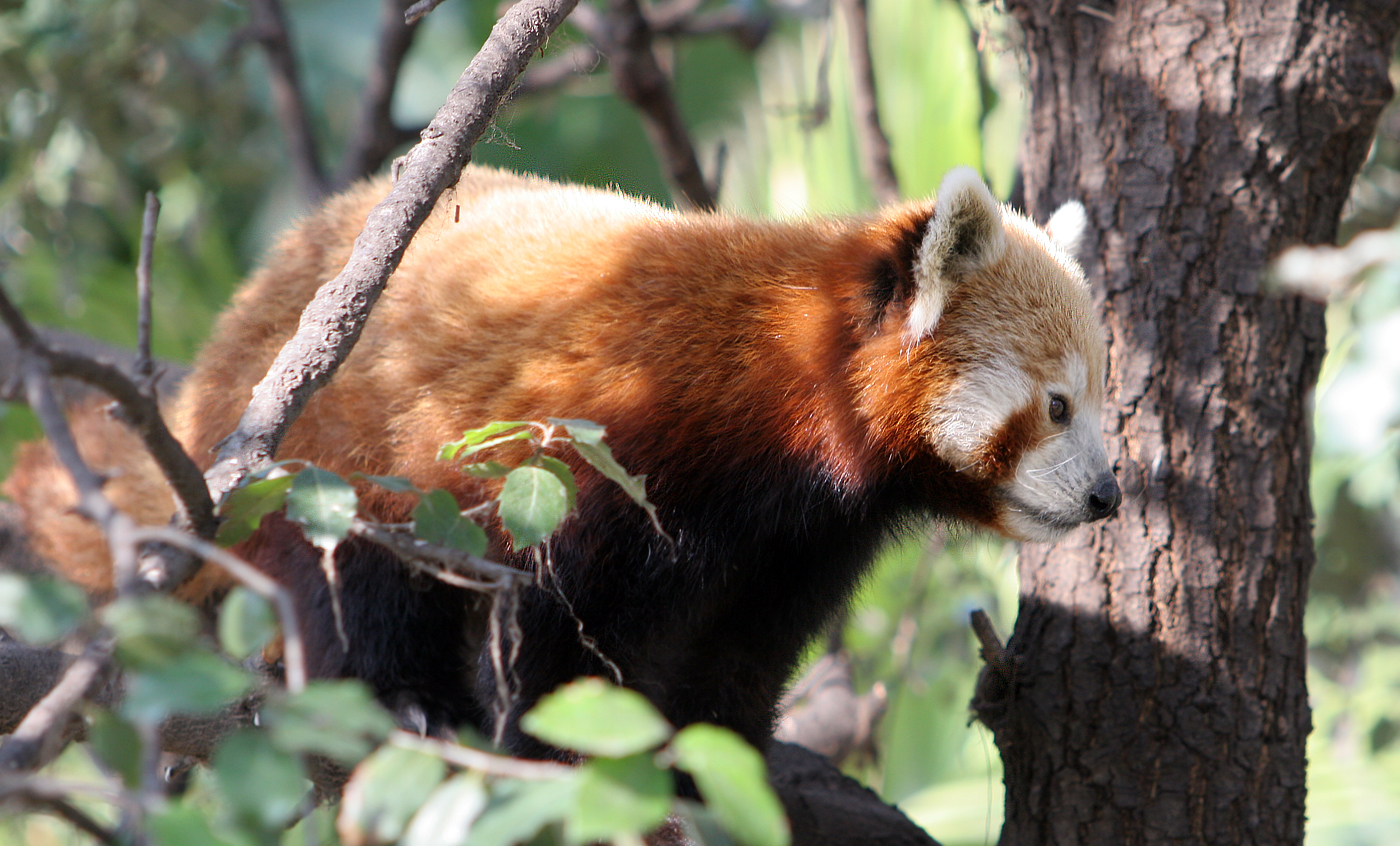red_panda: (149, 126, 1129, 739)
